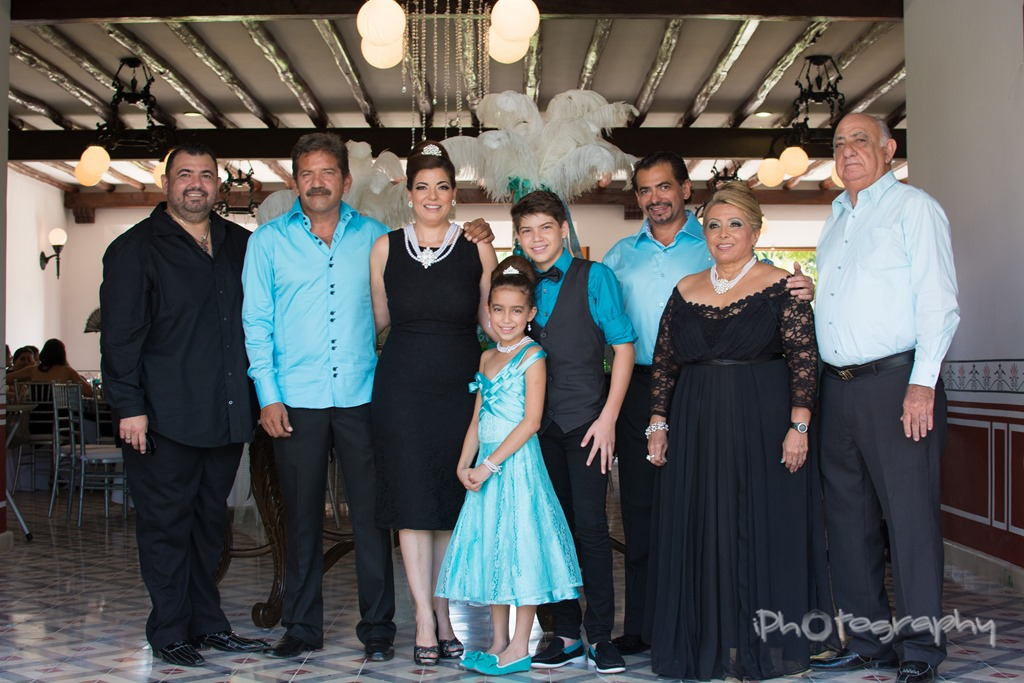person: (635, 173, 823, 412), (248, 77, 395, 332), (791, 97, 950, 325), (98, 118, 256, 341), (364, 129, 504, 350), (489, 184, 626, 379)
